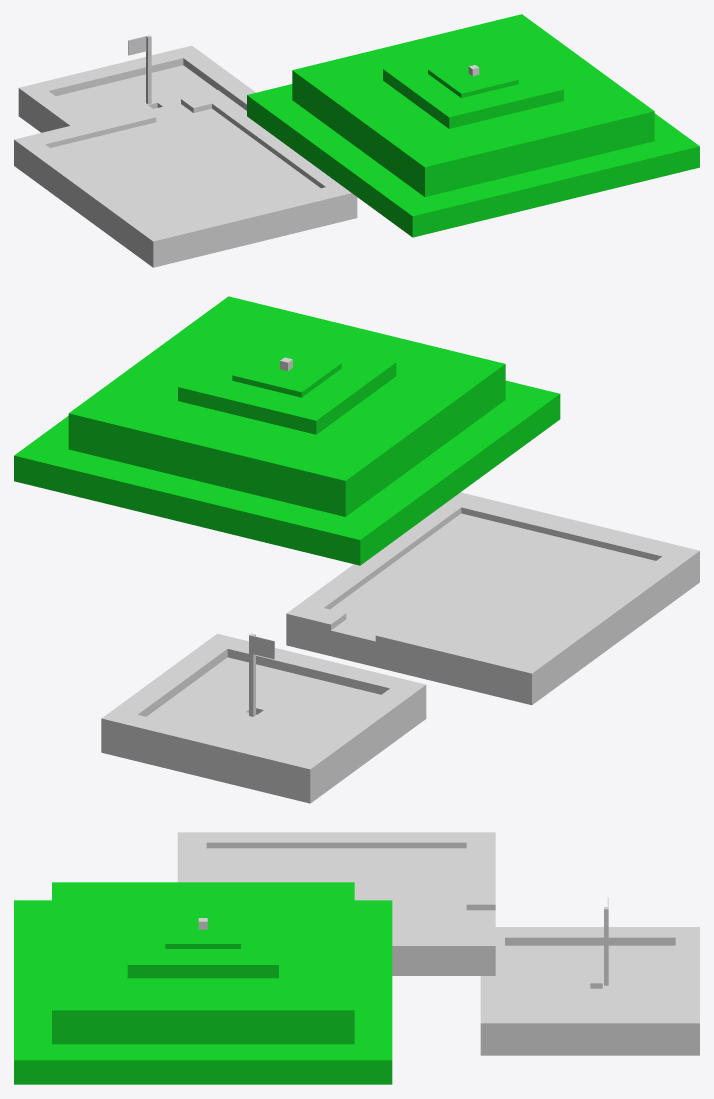
The model's file is defalt.glb.
The picture shows the model from 3 angles, top to bottom: view 1: azimuth 30°, elevation 25°; view 2: azimuth 150°, elevation 25°; view 3: azimuth 270°, elevation 25°; orthographic projection. The views are drawn at different scales.
Parts seen in each view (by area): view 1: course; view 2: course; view 3: course.
Boxes of the visible parts, x1=… form: course: x1=14, y1=14, x2=699, y2=267; course: x1=14, y1=296, x2=699, y2=803; course: x1=14, y1=832, x2=699, y2=1084.
Bounding box in the file's own units: 21.5 × 6.51 × 23.57.
